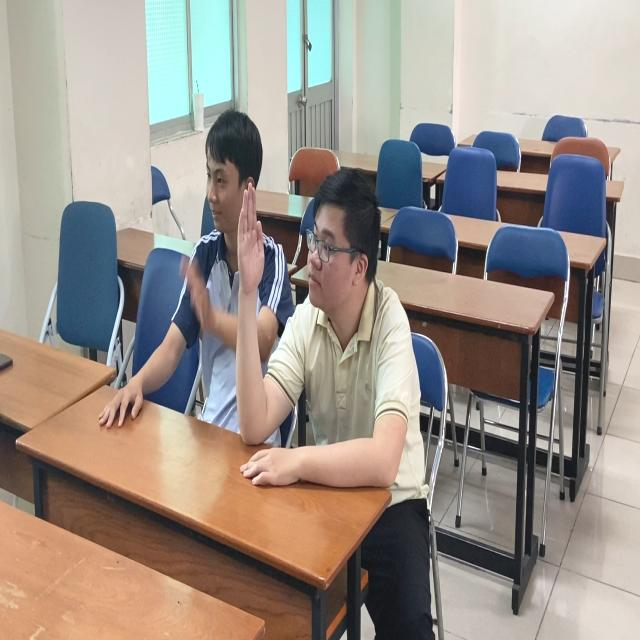raise_hand: (228, 145, 415, 546)
